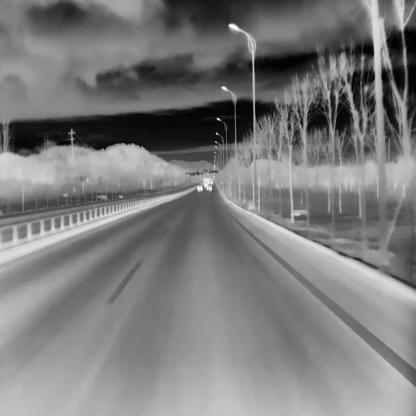car: (196, 185, 202, 190), (206, 184, 211, 189)
truck: (203, 177, 209, 187)
